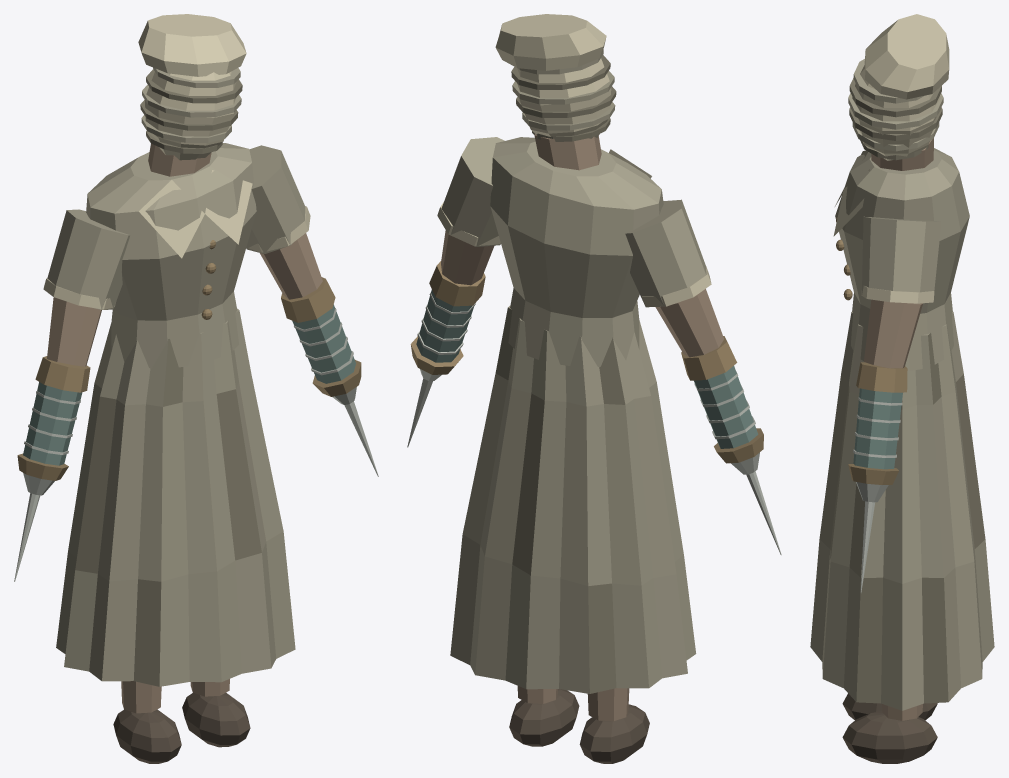
File: enemy_needle_nurse.glb
3 renders of one model, left to right at view 1: azimuth 30°, elevation 25°; view 2: azimuth 150°, elevation 25°; view 3: azimuth 270°, elevation 25°, orthographic. The views are drawn at different scales.
Parts seen in each view (by area): view 1: Needle Nurse; view 2: Needle Nurse; view 3: Needle Nurse.
Part boxes in pixels (box(x1,y1,x2,y2)): Needle Nurse: box(14, 14, 378, 763); Needle Nurse: box(407, 14, 781, 763); Needle Nurse: box(810, 14, 994, 763).
Bounding box in the file's own units: 1.03 × 1.94 × 0.4482.
